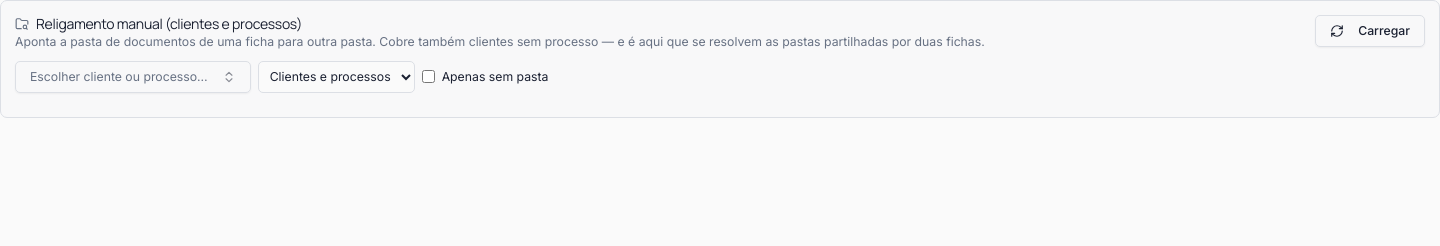
Scenario: S3RelinkPanel › lista CLIENTES e processos — o cliente da Pool era o que faltava
Click the button "Carregar" at (1370, 31), box [1315,15,1425,46]
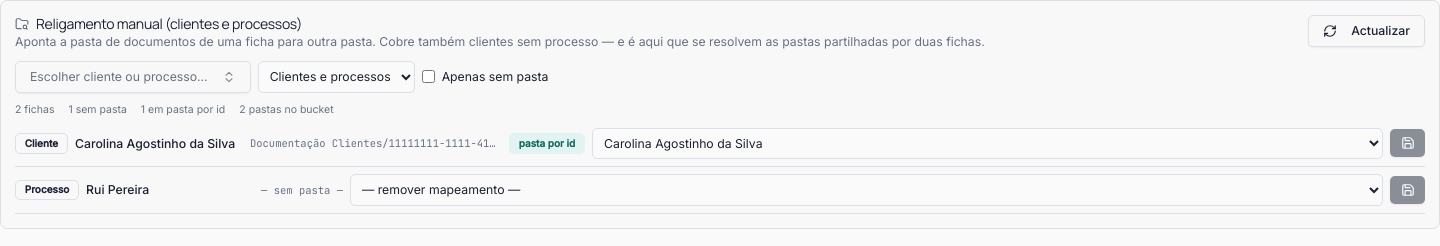
Expected: the element with test id "linha-processo:p-1" shows "Rui Pereira", [86,182,149,197]
Expected: the element with test id "linha-processo:p-1" shows "Processo", [25,183,69,195]
